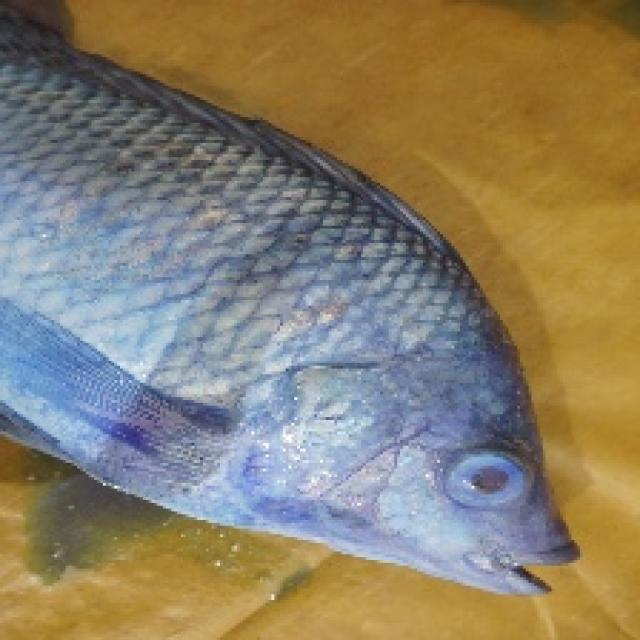Non-Fresh: (20, 22, 588, 610), (428, 427, 546, 537)
